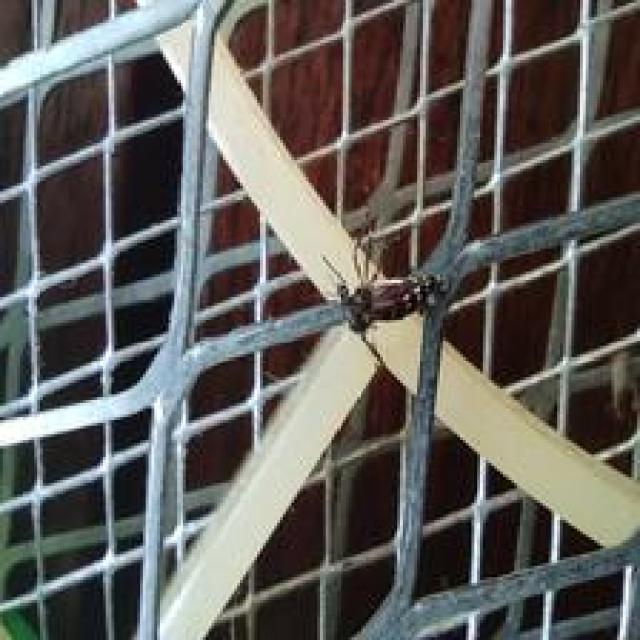Aedes albopictus: (319, 238, 430, 336)
